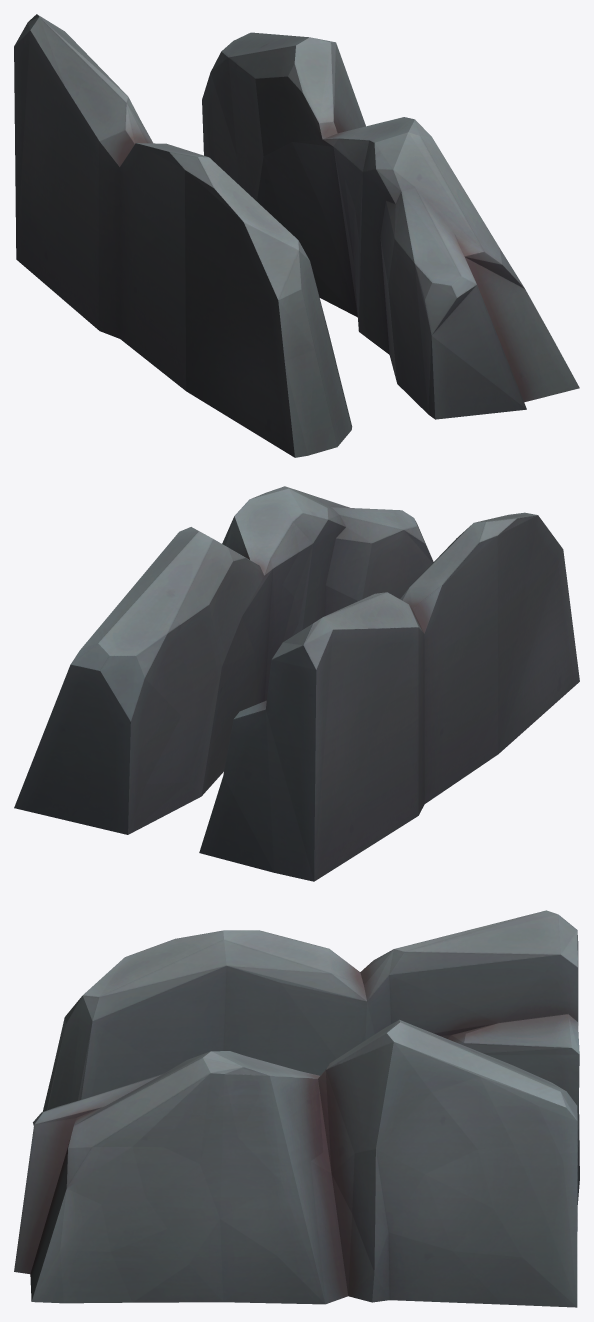
File: SM_Ramp.fbx
3 renders of one model, top to bottom at view 1: azimuth 30°, elevation 25°; view 2: azimuth 150°, elevation 25°; view 3: azimuth 270°, elevation 25°, orthographic.
Parts seen in each view (by area): view 1: SM_Ramp; view 2: SM_Ramp; view 3: SM_Ramp.
Boxes of the visible parts, x1,y1,x2,y2 form: SM_Ramp: (14,14,579,457); SM_Ramp: (14,486,579,881); SM_Ramp: (14,910,579,1307).
Bounding box in the file's own units: 4.3 × 3.32 × 6.72.
